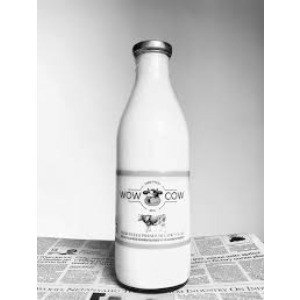milk_brain food: (114, 98, 189, 284)
